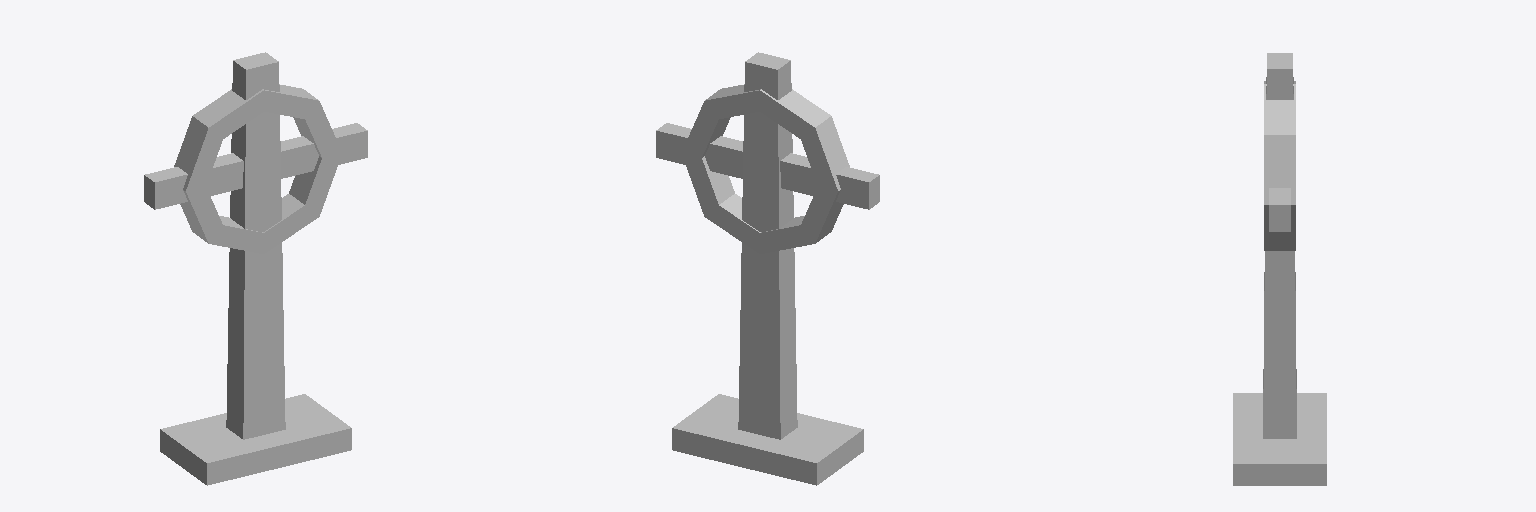
Rendered from stone_02.obj.
3 renders of one model, left to right at view 1: azimuth 30°, elevation 25°; view 2: azimuth 150°, elevation 25°; view 3: azimuth 270°, elevation 25°, orthographic.
Parts seen in each view (by area): view 1: Stone_02; view 2: Stone_02; view 3: Stone_02.
Part boxes in pixels (x1,y1,x2,y2): Stone_02: (144, 52, 367, 485); Stone_02: (656, 52, 879, 485); Stone_02: (1233, 53, 1326, 485).
Size of the model in its own units: 0.6011 by 1.05 by 0.2287.